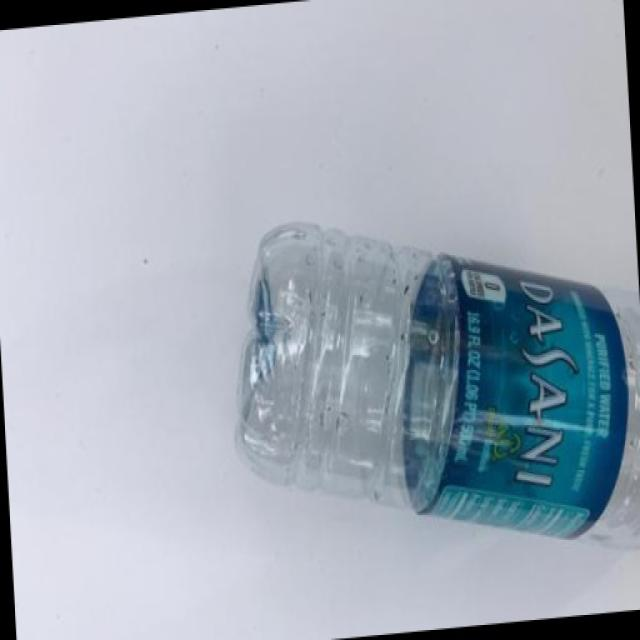plastico: (224, 177, 640, 576)
